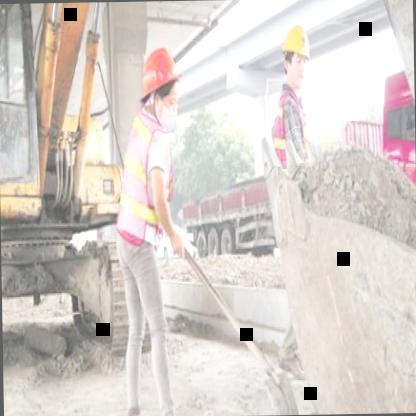helmet: (137, 40, 183, 134), (278, 15, 312, 96)
